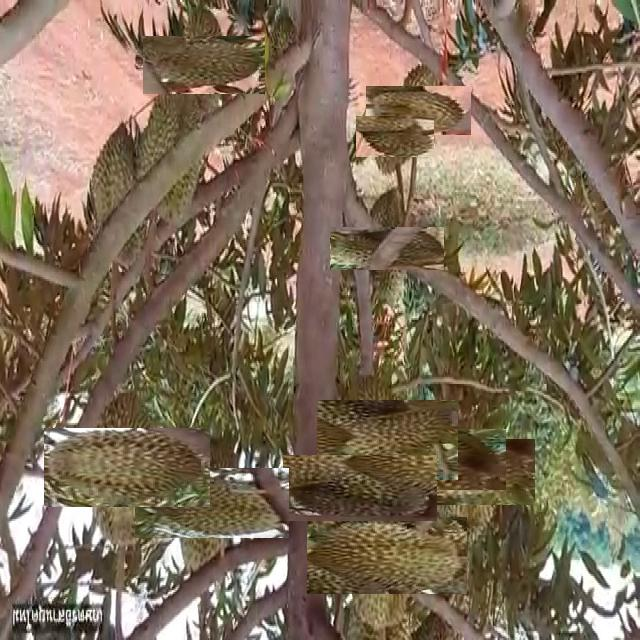durian: (66, 406, 189, 529), (327, 496, 447, 616), (155, 447, 268, 559), (332, 384, 443, 496), (304, 433, 415, 544), (133, 80, 207, 230), (87, 122, 151, 278), (422, 423, 520, 521), (393, 412, 490, 507), (159, 19, 251, 110), (348, 209, 427, 288), (380, 71, 457, 149), (365, 107, 425, 167), (265, 7, 303, 98)
